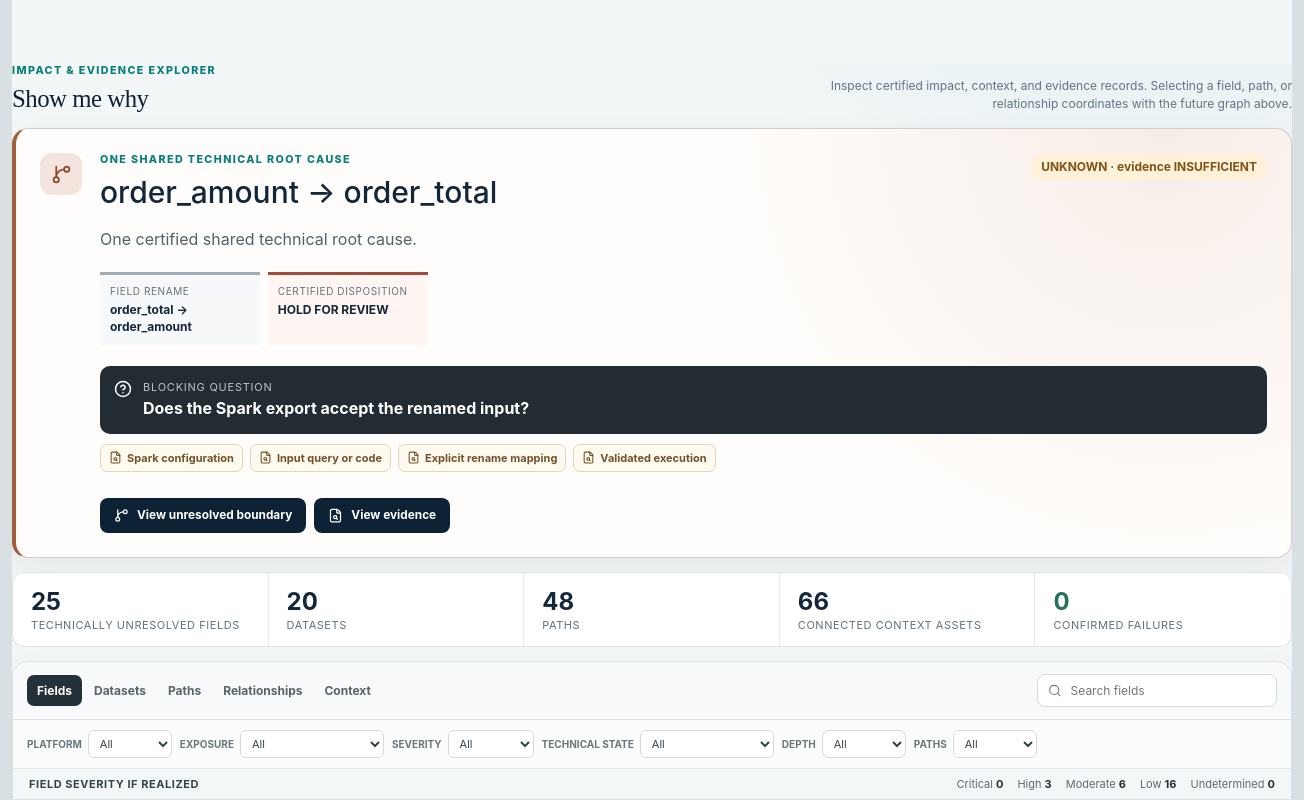
ImpactEvidenceExplorer › search filters already-loaded field records
Type "field_24" into the search field at (1167, 690), box [1069,682,1266,699]
(page scrolled)
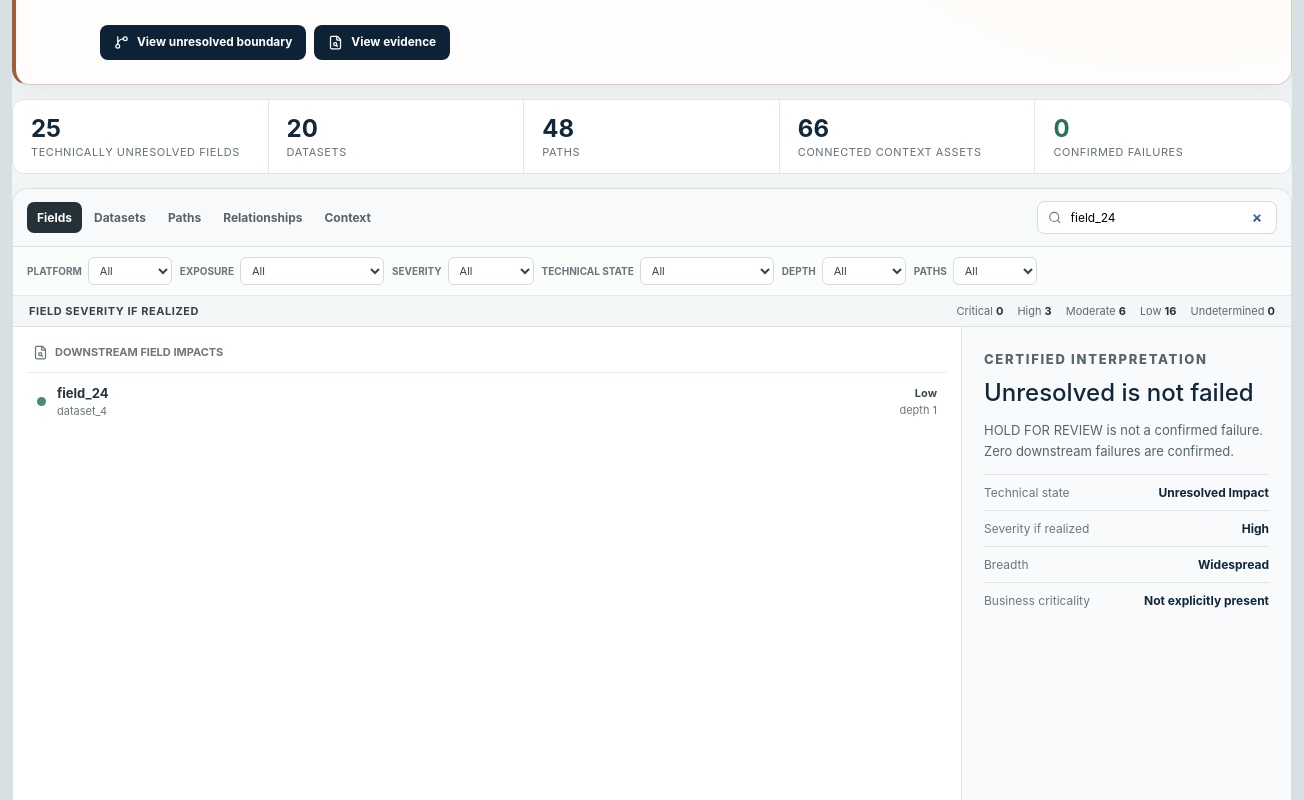
expect the button "field_24 dataset_4 Low depth 1" is shown: met, box [27,372,947,430]
